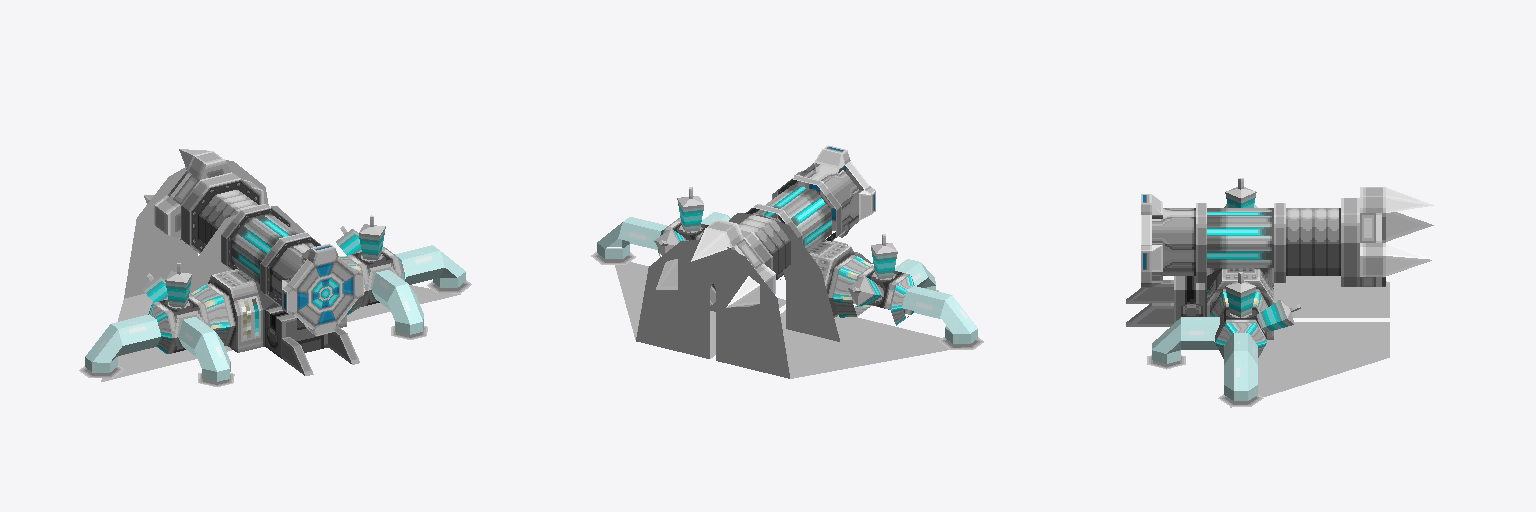
3 views of the same model, side by side, from view 1: azimuth 30°, elevation 25°; view 2: azimuth 150°, elevation 25°; view 3: azimuth 270°, elevation 25° (orthographic).
Visible parts, largest first — view 1: polygon1, polygon0, polygon9, polygon4, polygon2, polygon8, polygon3, polygon5, polygon6; view 2: polygon9, polygon1, polygon0, polygon2, polygon8, polygon6, polygon4, polygon3; view 3: polygon9, polygon2, polygon1, polygon4, polygon0, polygon3, polygon8.
Boxes of the visible parts, x1=… form: polygon1: x1=79, y1=149, x2=471, y2=386; polygon0: x1=85, y1=245, x2=465, y2=381; polygon9: x1=101, y1=160, x2=460, y2=381; polygon4: x1=152, y1=247, x2=403, y2=375; polygon2: x1=181, y1=172, x2=320, y2=306; polygon8: x1=142, y1=215, x2=404, y2=353; polygon3: x1=231, y1=213, x2=297, y2=283; polygon5: x1=230, y1=282, x2=346, y2=352; polygon6: x1=189, y1=206, x2=308, y2=293; polygon9: x1=615, y1=240, x2=948, y2=378; polygon1: x1=591, y1=145, x2=983, y2=349; polygon0: x1=597, y1=212, x2=977, y2=343; polygon2: x1=710, y1=164, x2=858, y2=304; polygon8: x1=654, y1=187, x2=914, y2=325; polygon6: x1=710, y1=213, x2=839, y2=341; polygon4: x1=659, y1=218, x2=911, y2=317; polygon3: x1=755, y1=185, x2=831, y2=250; polygon9: x1=1230, y1=276, x2=1389, y2=407; polygon2: x1=1152, y1=198, x2=1359, y2=286; polygon1: x1=1141, y1=187, x2=1433, y2=406; polygon4: x1=1126, y1=268, x2=1273, y2=341; polygon0: x1=1152, y1=203, x2=1257, y2=400; polygon3: x1=1207, y1=208, x2=1273, y2=267; polygon8: x1=1210, y1=178, x2=1301, y2=358.
Size of the model in its own units: 14.88 by 4.75 by 10.38.
10 materials, 8 textured.